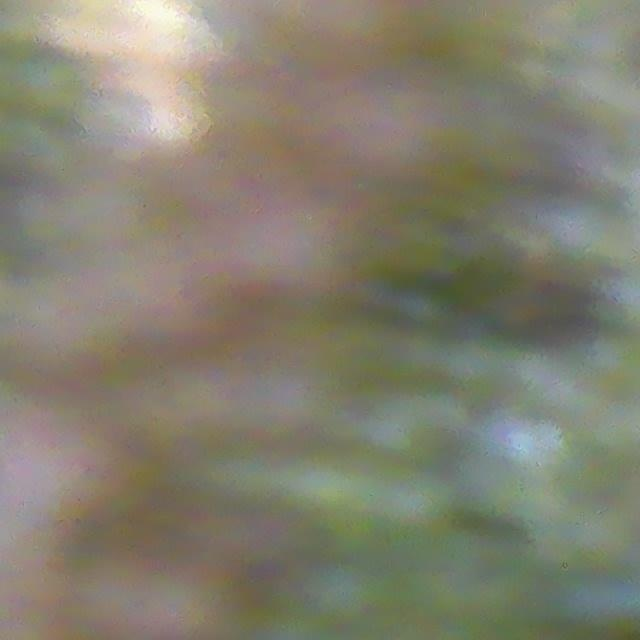SeaGrape: (307, 558, 378, 627)
